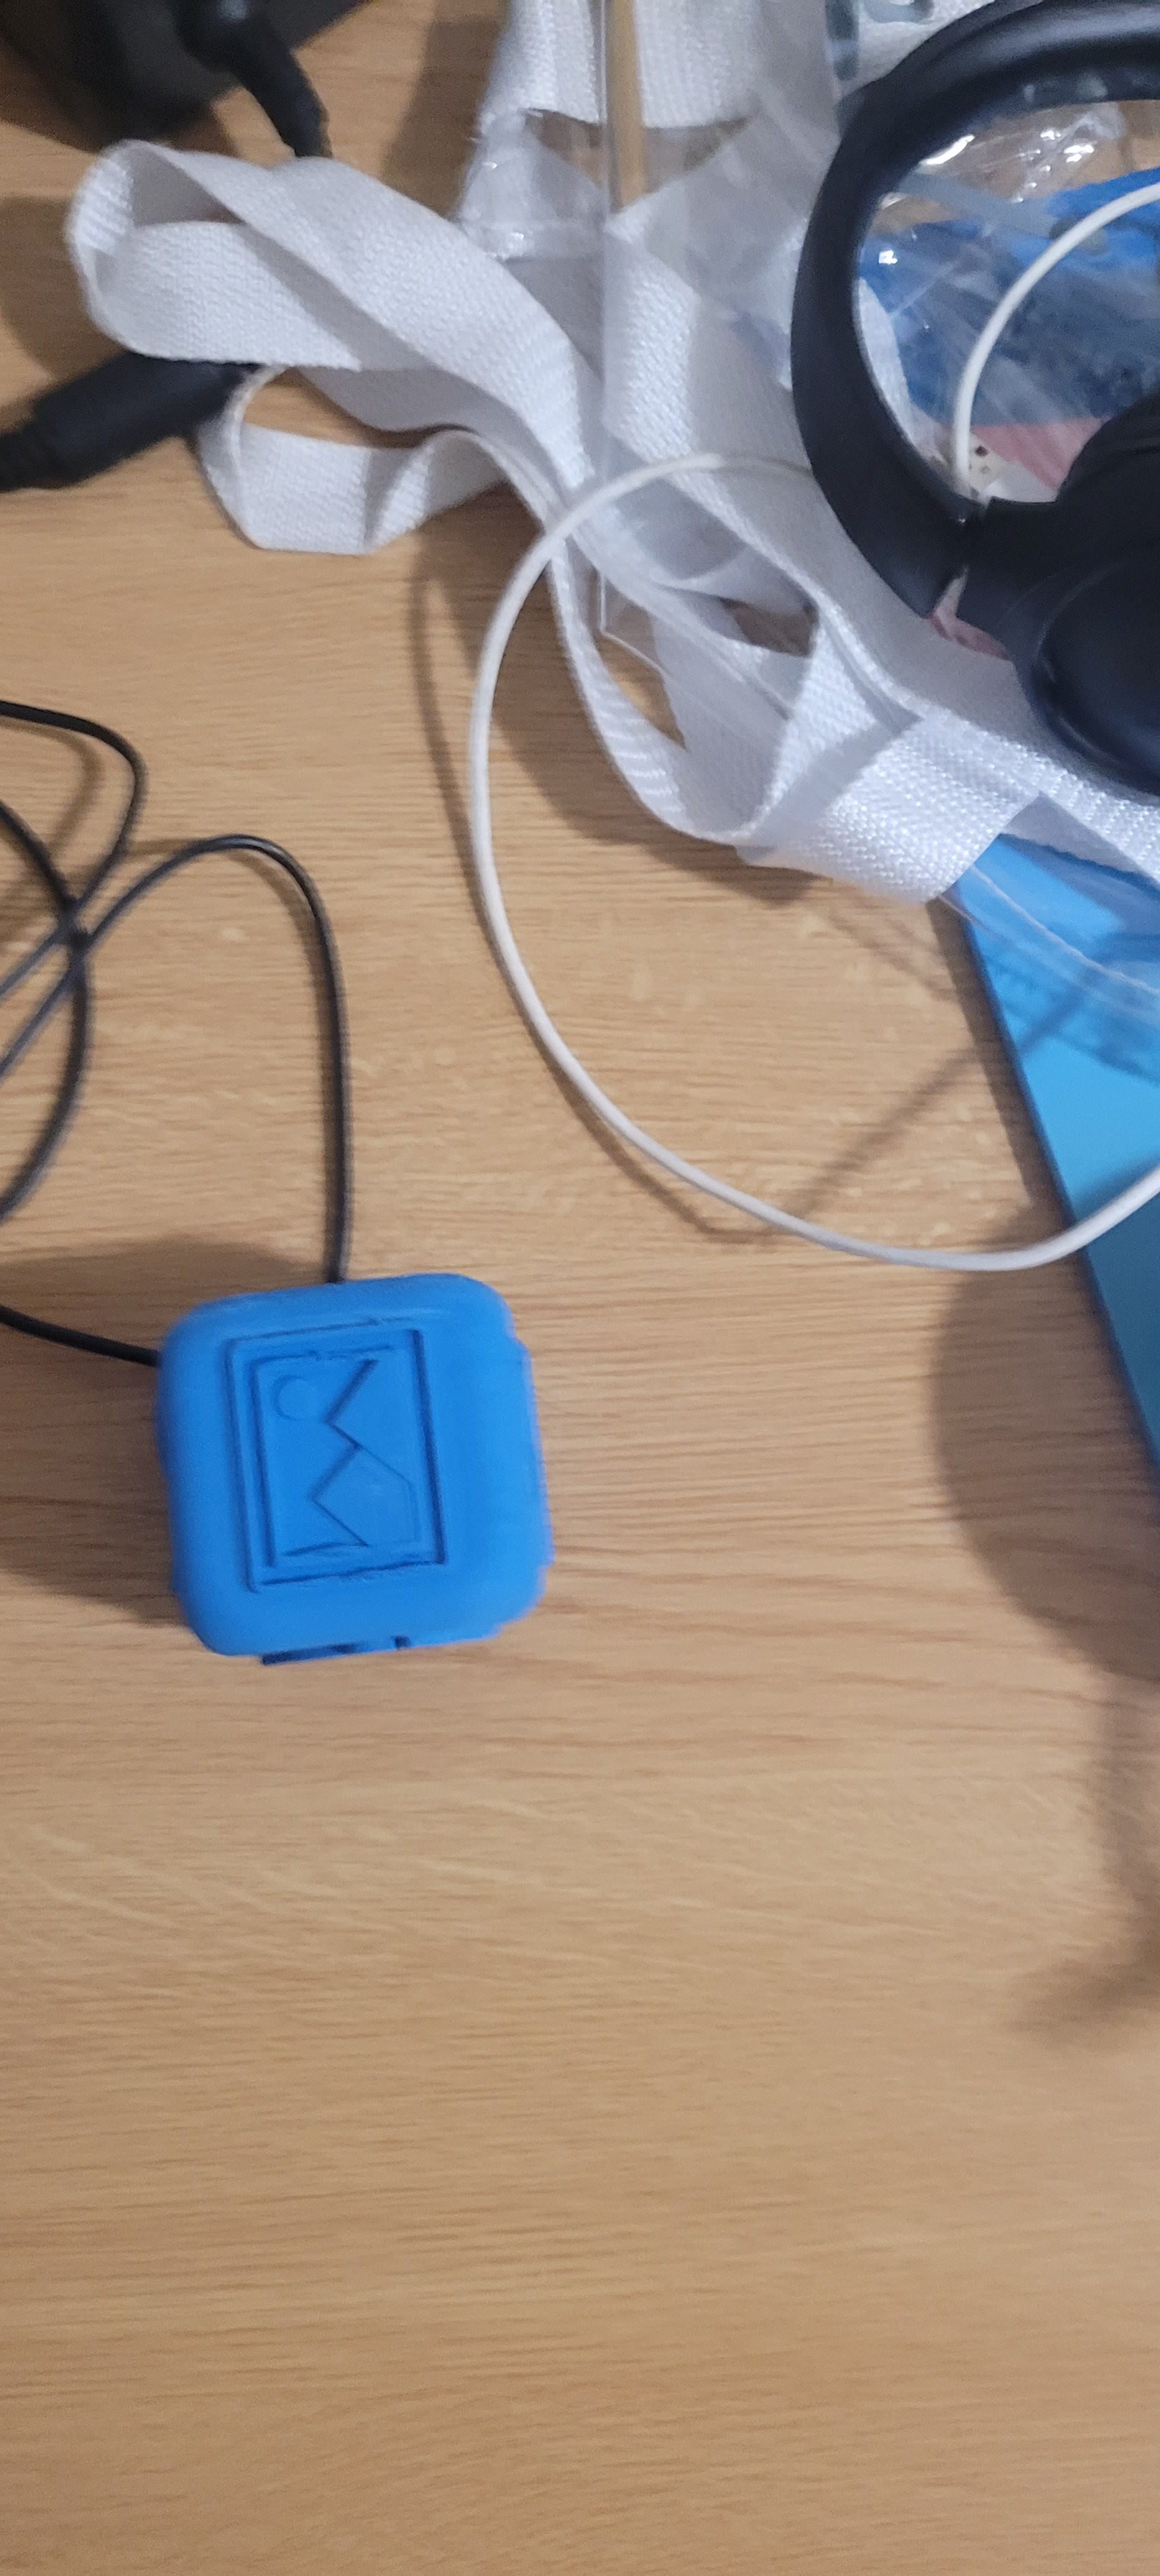Story: (189, 1311, 467, 1595)
